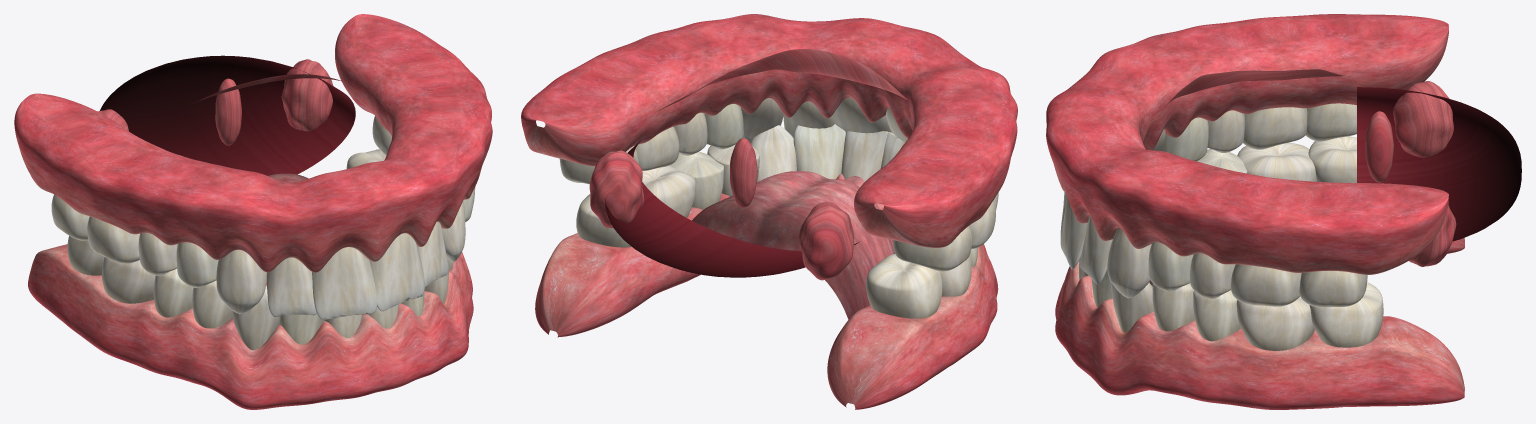
File: dental_model.glb
The picture shows the model from 3 angles, left to right: view 1: azimuth 30°, elevation 25°; view 2: azimuth 150°, elevation 25°; view 3: azimuth 270°, elevation 25°; orthographic projection. The views are drawn at different scales.
Parts seen in each view (by area): view 1: Upper_jaw, Lower_jaw, Mouth_cavity; view 2: Upper_jaw, Lower_jaw, Mouth_cavity; view 3: Upper_jaw, Lower_jaw, Mouth_cavity.
Boxes of the visible parts, x1,y1,x2,y2 form: Upper_jaw: (14,14,492,320); Lower_jaw: (28,149,473,409); Mouth_cavity: (97,55,355,175); Upper_jaw: (521,14,1017,271); Lower_jaw: (535,124,998,409); Mouth_cavity: (589,49,907,280); Upper_jaw: (1046,14,1448,307); Lower_jaw: (1055,136,1464,409); Mouth_cavity: (1165,69,1521,266).
Bounding box in the file's own units: 0.0677 × 0.0377 × 0.0635.
4 materials, 4 textured.
